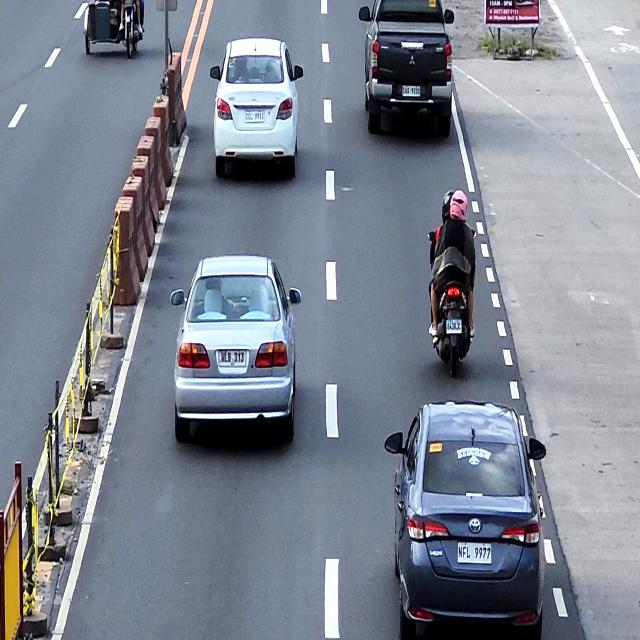Car: (384, 400, 546, 638), (170, 253, 301, 442), (358, 0, 455, 137), (210, 36, 303, 178)
License-Plate: (456, 540, 493, 565), (218, 347, 247, 369), (244, 110, 265, 123), (402, 84, 421, 98), (446, 318, 462, 334)
Motorcycle: (428, 230, 476, 377)
Tricycle: (83, 0, 144, 56)
